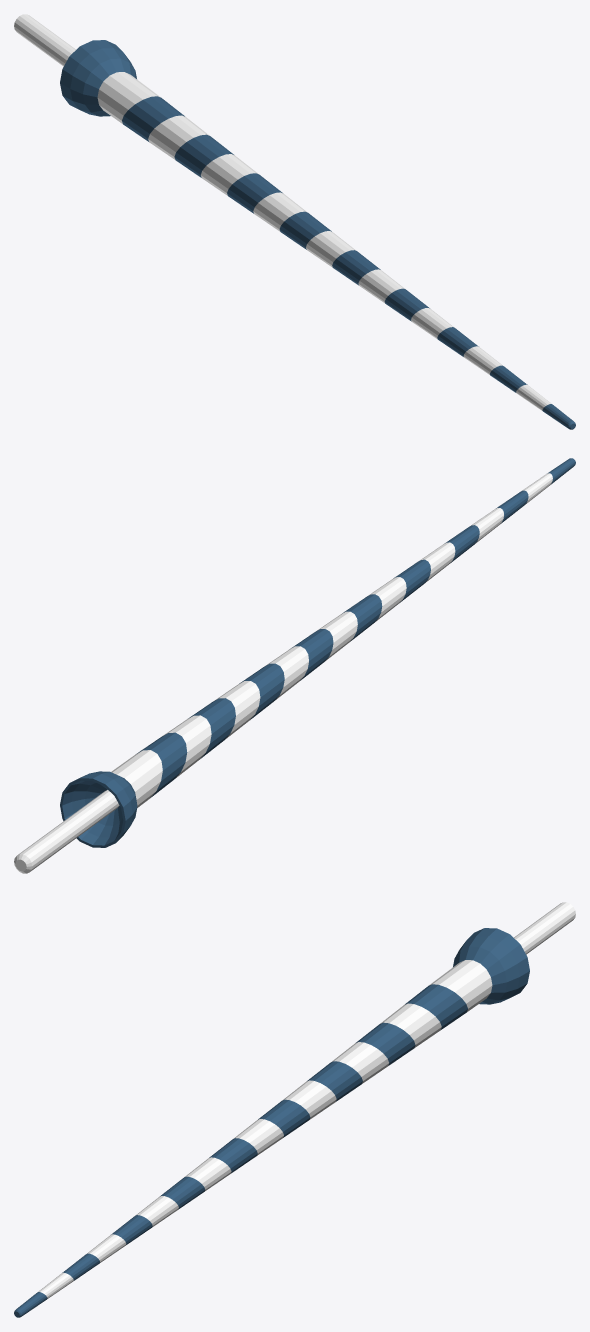
Rendered from Lans.fbx.
3 renders of one model, top to bottom at view 1: azimuth 30°, elevation 25°; view 2: azimuth 150°, elevation 25°; view 3: azimuth 330°, elevation 25°, orthographic.
Visible parts, largest first — view 1: Cylinder; view 2: Cylinder; view 3: Cylinder.
Boxes of the visible parts, x1,y1,x2,y2 form: Cylinder: (14,14,575,429); Cylinder: (14,458,575,873); Cylinder: (14,902,575,1317).
Size of the model in its own units: 16.68 by 16.68 by 242.
